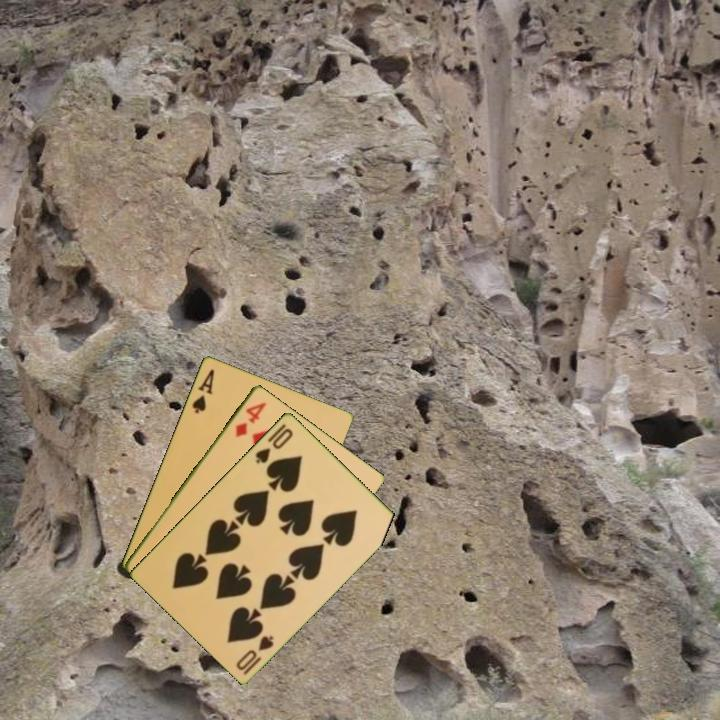10s: (232, 631, 277, 678), (252, 424, 296, 466)
4d: (231, 398, 269, 440)
As: (188, 365, 217, 416)
